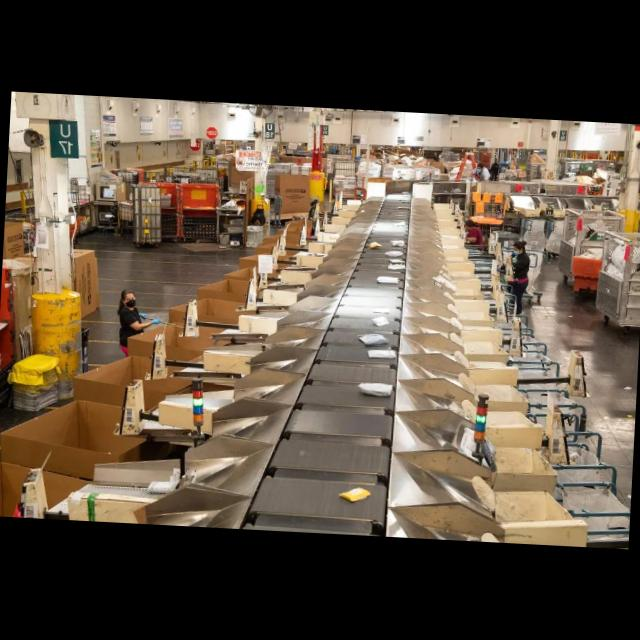mailer: (340, 487, 371, 502), (360, 383, 392, 396), (359, 333, 389, 345), (368, 349, 395, 358), (371, 316, 389, 326), (377, 276, 399, 283), (389, 263, 406, 269), (386, 250, 403, 256), (391, 239, 405, 246), (370, 241, 382, 248), (390, 258, 405, 263), (394, 220, 406, 225), (397, 205, 409, 209)
